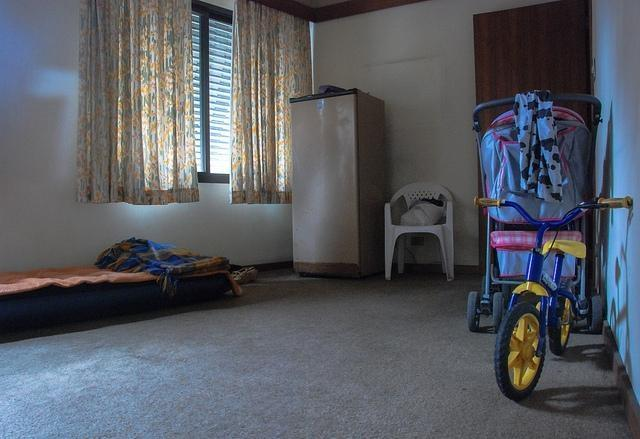bicycle: (474, 194, 632, 404)
